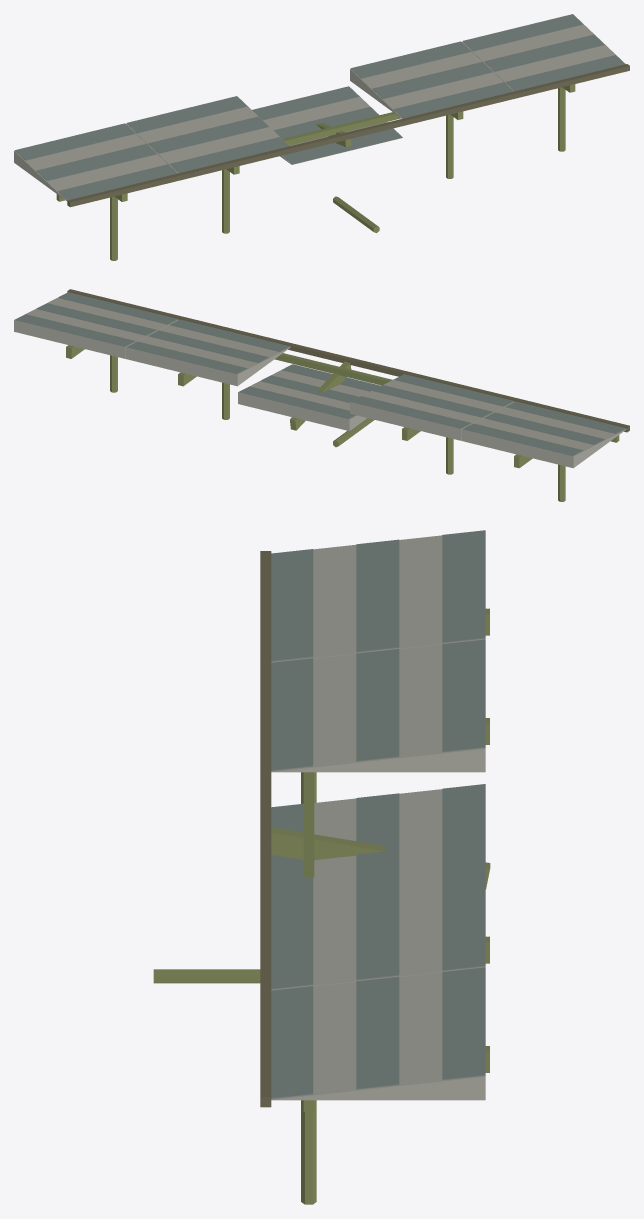
Rendered from SM_marquesina_v3_LOD1.fbx.
3 renders of one model, top to bottom at view 1: azimuth 30°, elevation 25°; view 2: azimuth 150°, elevation 25°; view 3: azimuth 270°, elevation 25°, orthographic. The views are drawn at different scales.
Parts seen in each view (by area): view 1: SM_bloques.marquesina_v3_LOD1; view 2: SM_bloques.marquesina_v3_LOD1; view 3: SM_bloques.marquesina_v3_LOD1.
Part boxes in pixels (bbox=[...]): SM_bloques.marquesina_v3_LOD1: bbox=[14, 14, 629, 260]; SM_bloques.marquesina_v3_LOD1: bbox=[14, 289, 629, 501]; SM_bloques.marquesina_v3_LOD1: bbox=[153, 530, 490, 1204].
Size of the model in its own units: 30 by 4.63 by 7.81.
